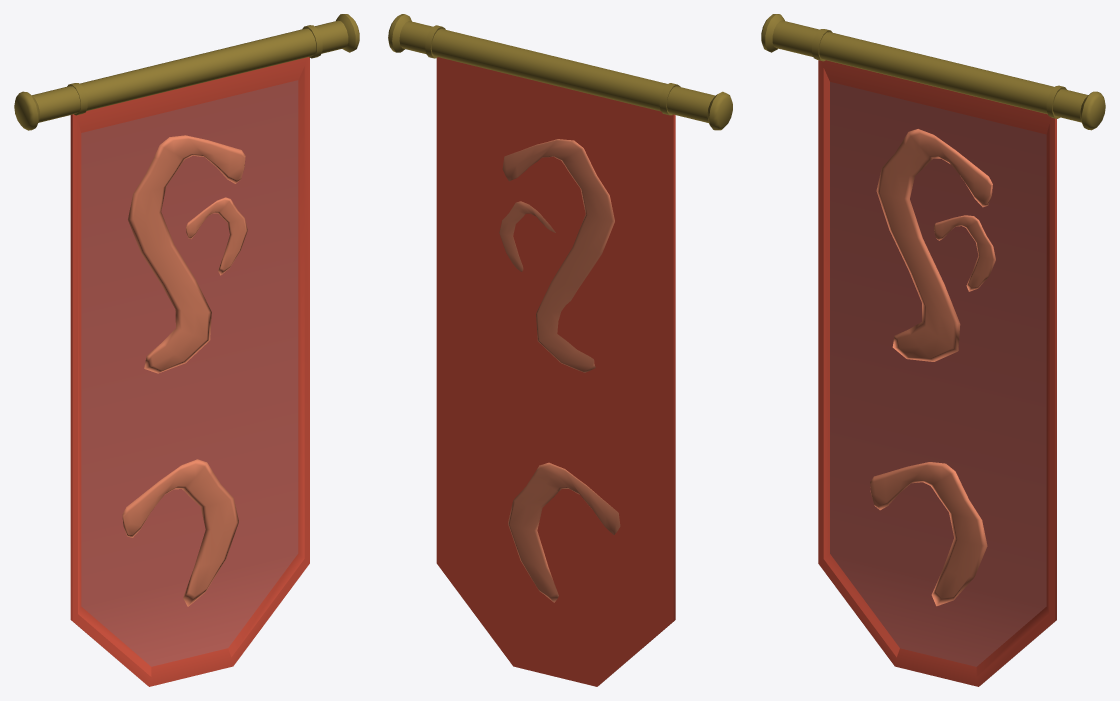
File: Banderole 1.fbx
The picture shows the model from 3 angles, left to right: view 1: azimuth 30°, elevation 25°; view 2: azimuth 150°, elevation 25°; view 3: azimuth 330°, elevation 25°; orthographic projection.
Parts seen in each view (by area): view 1: Cylinder; view 2: Cylinder; view 3: Cylinder.
Boxes of the visible parts, box(x1,y1,x2,y2) form: Cylinder: box(14, 14, 359, 686); Cylinder: box(388, 14, 732, 686); Cylinder: box(761, 14, 1105, 686).
Bounding box in the file's own units: 146 × 262 × 15.03.
